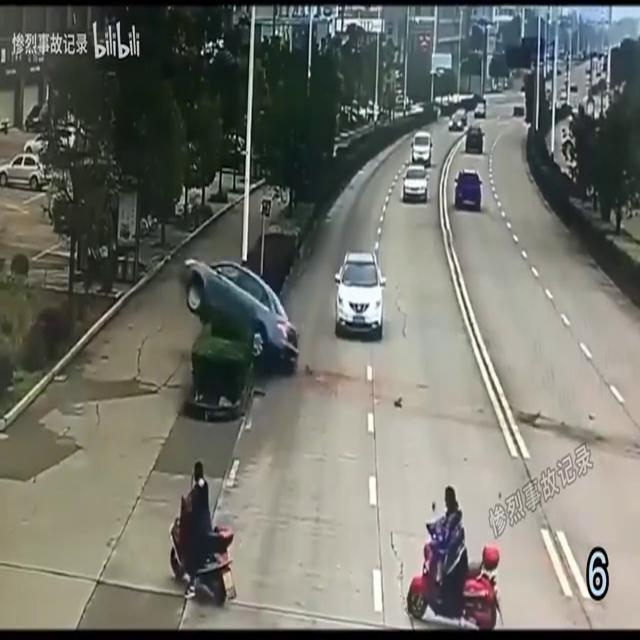accident: (176, 255, 300, 388)
non-accident: (400, 127, 434, 206), (448, 105, 488, 157)
